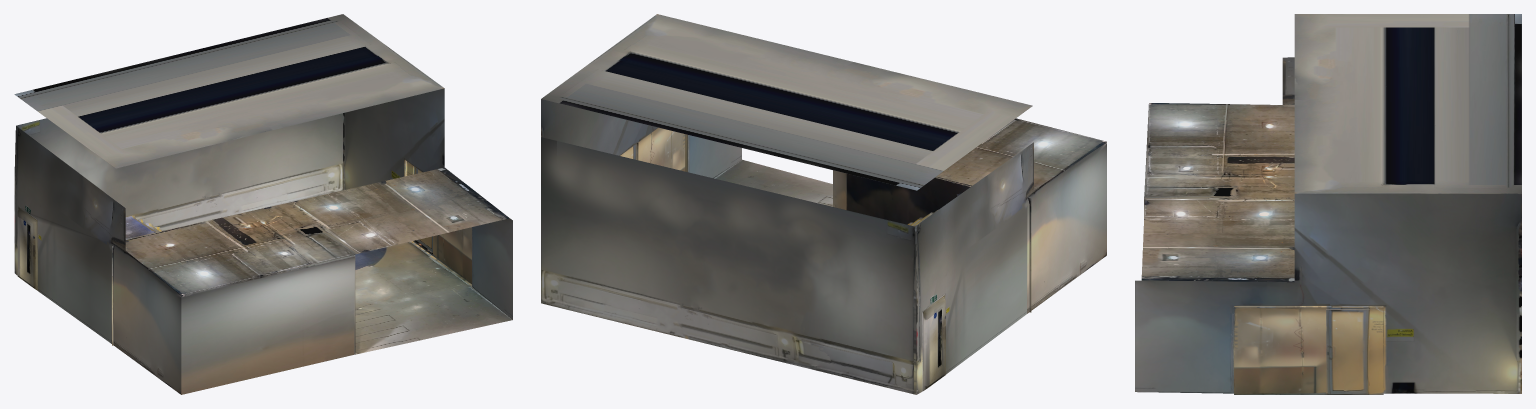
File: Well_01-IM2.fbx
3 views of the same model, side by side, from view 1: azimuth 30°, elevation 25°; view 2: azimuth 150°, elevation 25°; view 3: azimuth 270°, elevation 25° (orthographic). The views are drawn at different scales.
Parts seen in each view (by area): view 1: Well_01-IM; view 2: Well_01-IM; view 3: Well_01-IM.
Part boxes in pixels (x1=…): Well_01-IM: x1=14, y1=14, x2=512, y2=394; Well_01-IM: x1=541, y1=14, x2=1106, y2=394; Well_01-IM: x1=1135, y1=14, x2=1521, y2=394.
Bounding box in the file's own units: 1022 × 520 × 911.
1 material, 1 textured.
